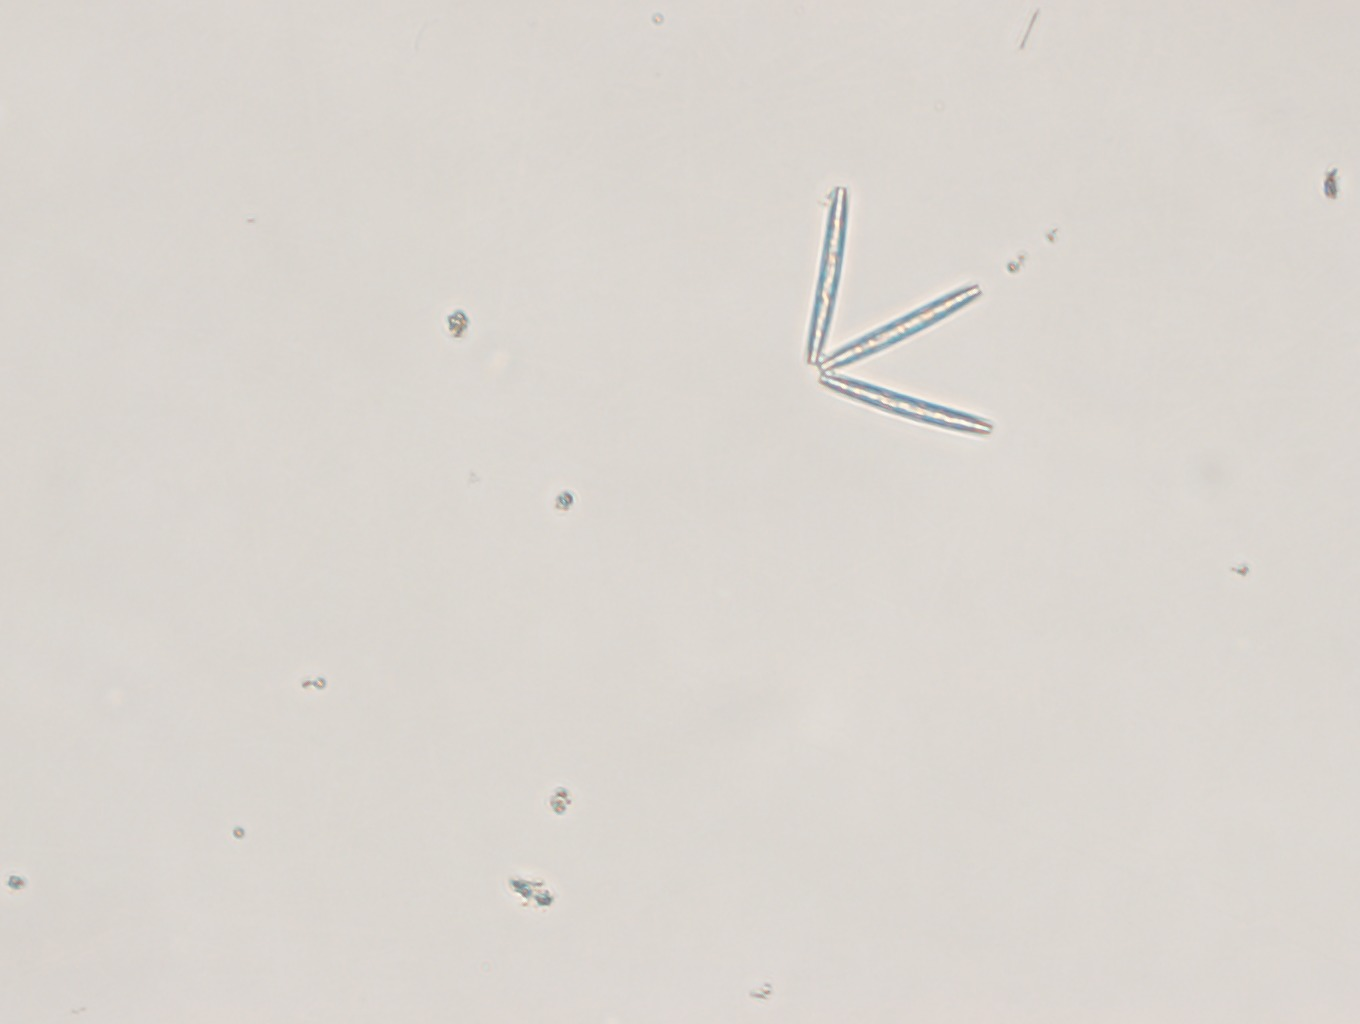thalassionema frauenfeldii: (793, 176, 1004, 447)
